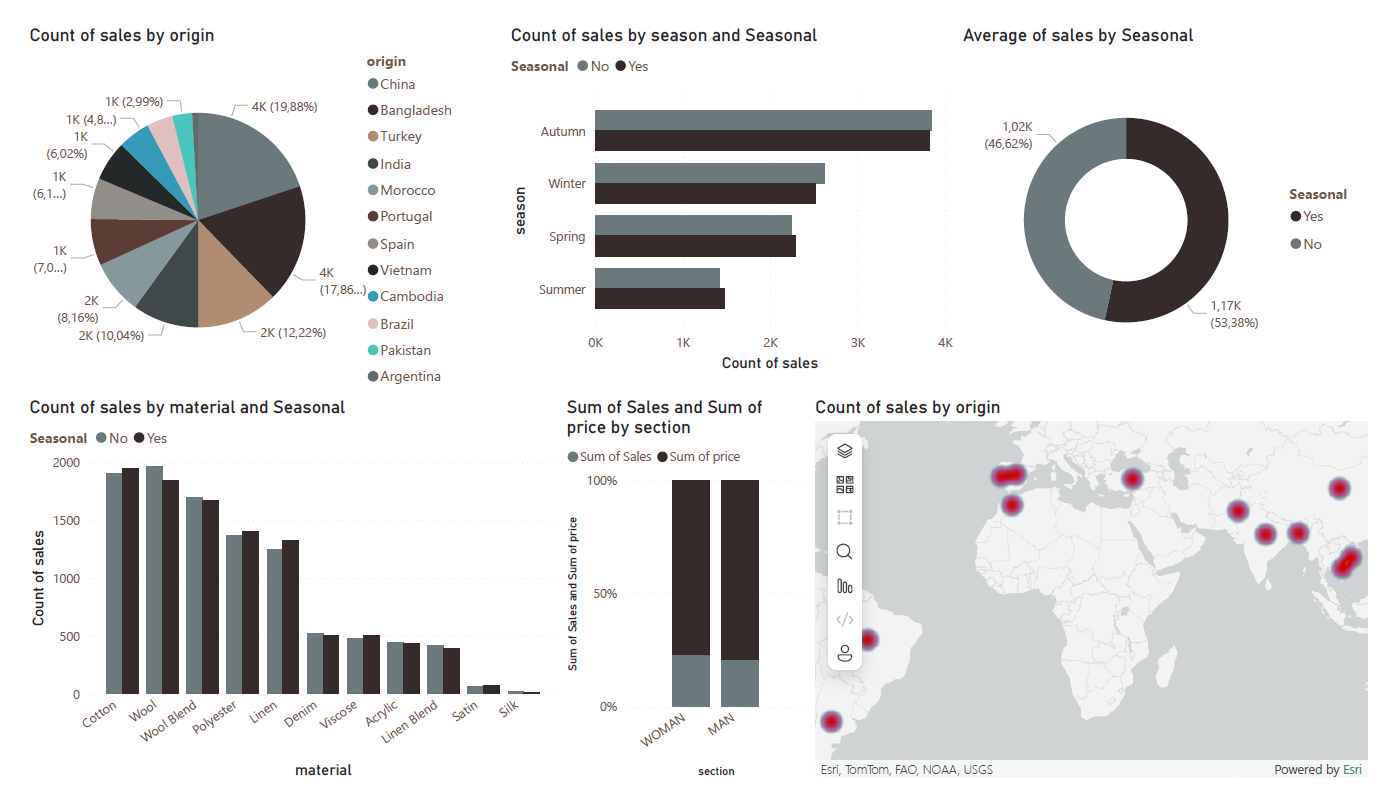

This screenshot's page, from the dashboard's own definition file:
{"tool":"powerbi","page":{"name":"dashboard","canvas":[1280,720],"ordinal":0},"visuals":[{"type":"pieChart","fields":{"Y":["zara-sales.Measure"],"Category":["zara-products.origin"]},"box":[0,0,420,352.9],"z":0},{"type":"clusteredColumnChart","fields":{"Category":["zara-products.material"],"Y":["zara-sales.Measure"],"Series":["zara-sales.Seasonal"]},"box":[0,352.9,510,367.1],"z":1},{"type":"clusteredBarChart","fields":{"Category":["zara-products.season"],"Y":["zara-sales.Count_sales"],"Series":["zara-sales.Seasonal"]},"box":[457.1,0,428.6,334.3],"z":2},{"type":"esriVisual","fields":{"Location":["zara-products.origin"],"Size":["zara-sales.Count of sales"]},"box":[745.7,352.9,534.3,367.1],"z":3},{"type":"hundredPercentStackedColumnChart","fields":{"Y":["Sum(zara-sales.Sales)","Sum(zara-products.price)"],"Category":["zara-products.section"]},"box":[510,353,236,367],"z":4},{"type":"donutChart","fields":{"Y":["zara-sales.Average of sales"],"Category":["zara-sales.Seasonal"]},"box":[885.7,0,394.3,352.9],"z":5}]}

Visuals, with their boxes in screenshot pixels (x1, y1, x2, y2), scaled from the page's 1280x720 canvas onto the 1394x802 screenshot:
pieChart - zara-sales.Measure x zara-products.origin: region(0, 0, 457, 393)
clusteredColumnChart - zara-products.material x zara-sales.Measure: region(0, 393, 555, 801)
clusteredBarChart - zara-products.season x zara-sales.Count_sales: region(498, 0, 965, 372)
esriVisual - zara-products.origin x zara-sales.Count of sales: region(812, 393, 1393, 801)
hundredPercentStackedColumnChart - Sum(zara-sales.Sales) x Sum(zara-products.price): region(555, 393, 812, 801)
donutChart - zara-sales.Average of sales x zara-sales.Seasonal: region(965, 0, 1393, 393)
